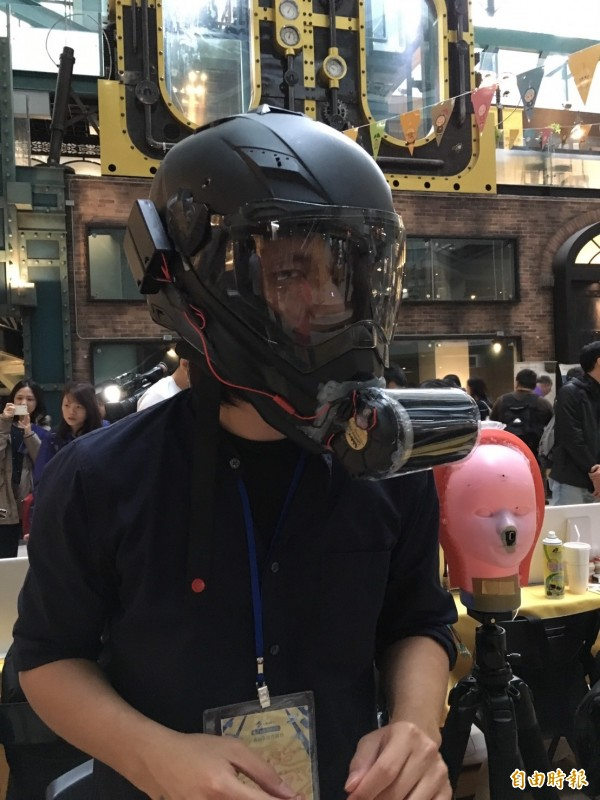helmet: (159, 127, 402, 406)
